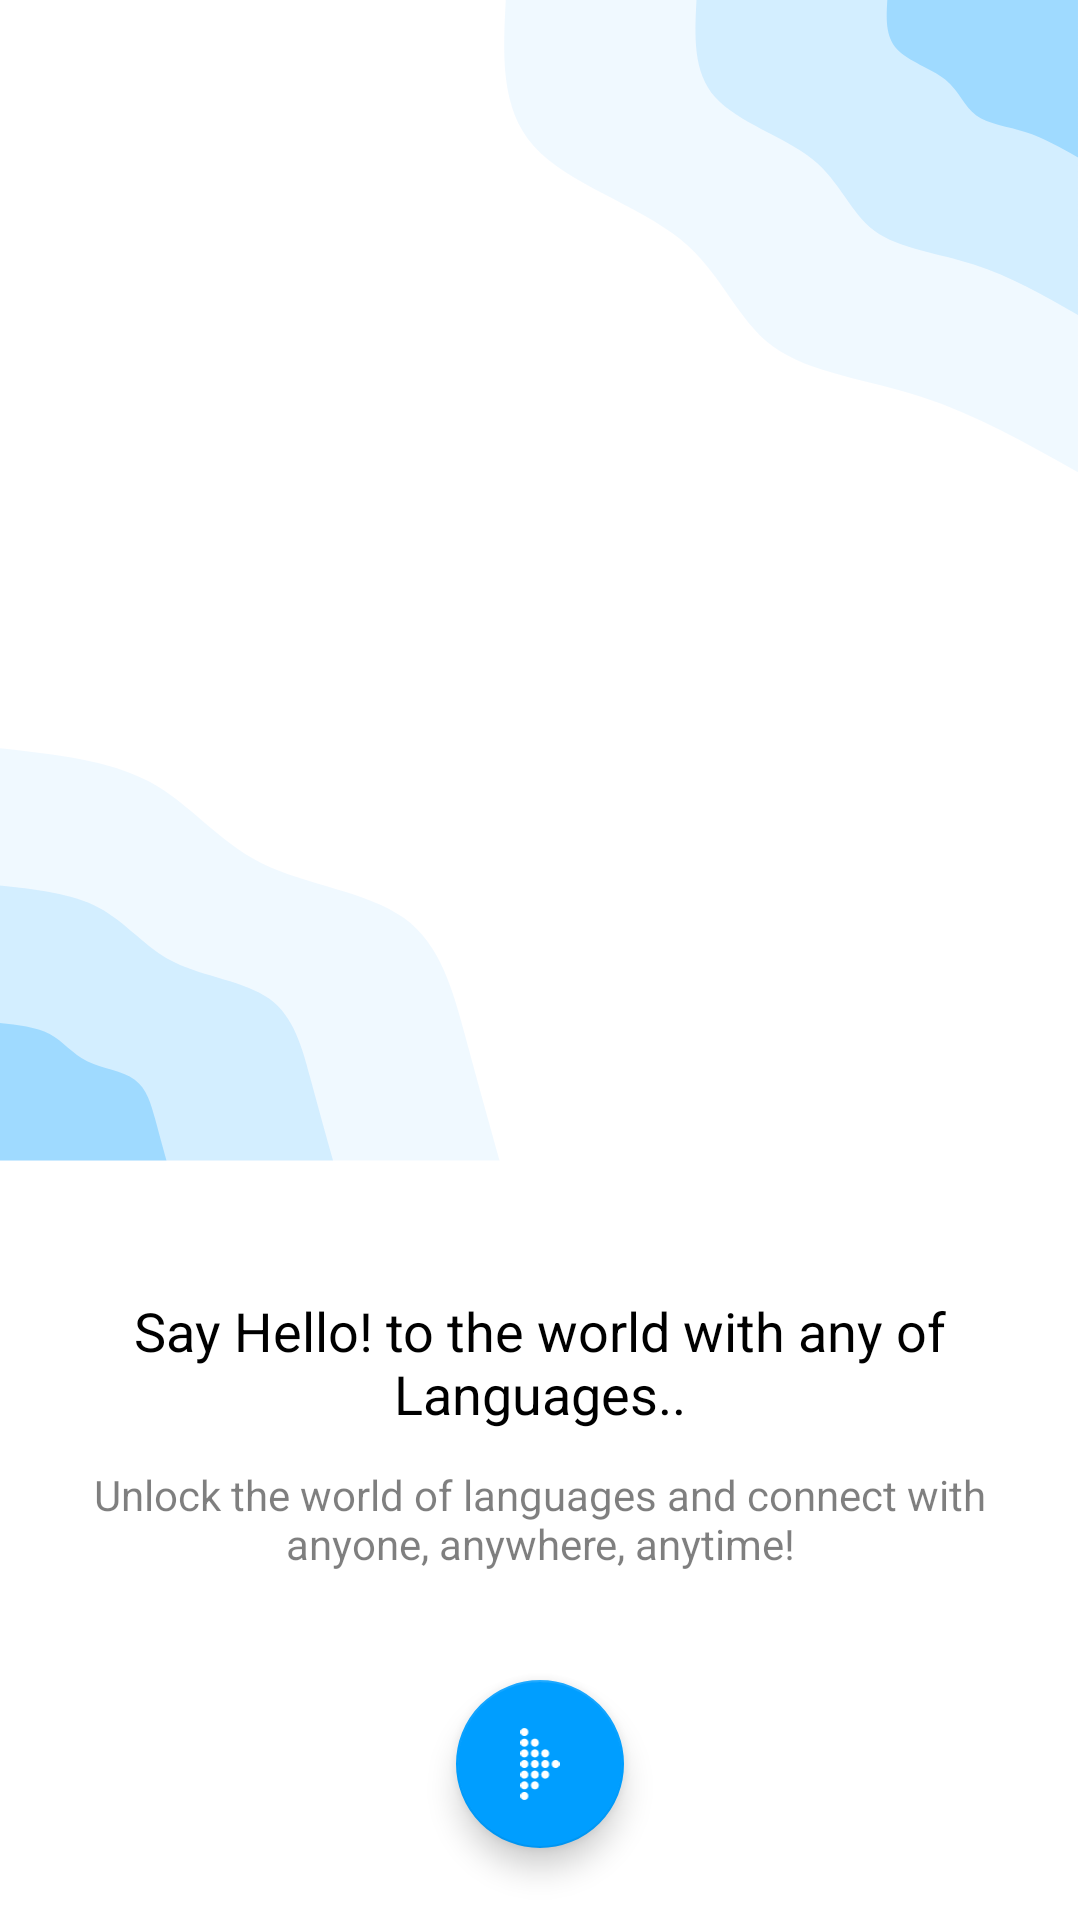

Point at icon controls on the screen. Image size 1080 x 1920, points as (x,y).
dot arrow forward: (540,1764)
